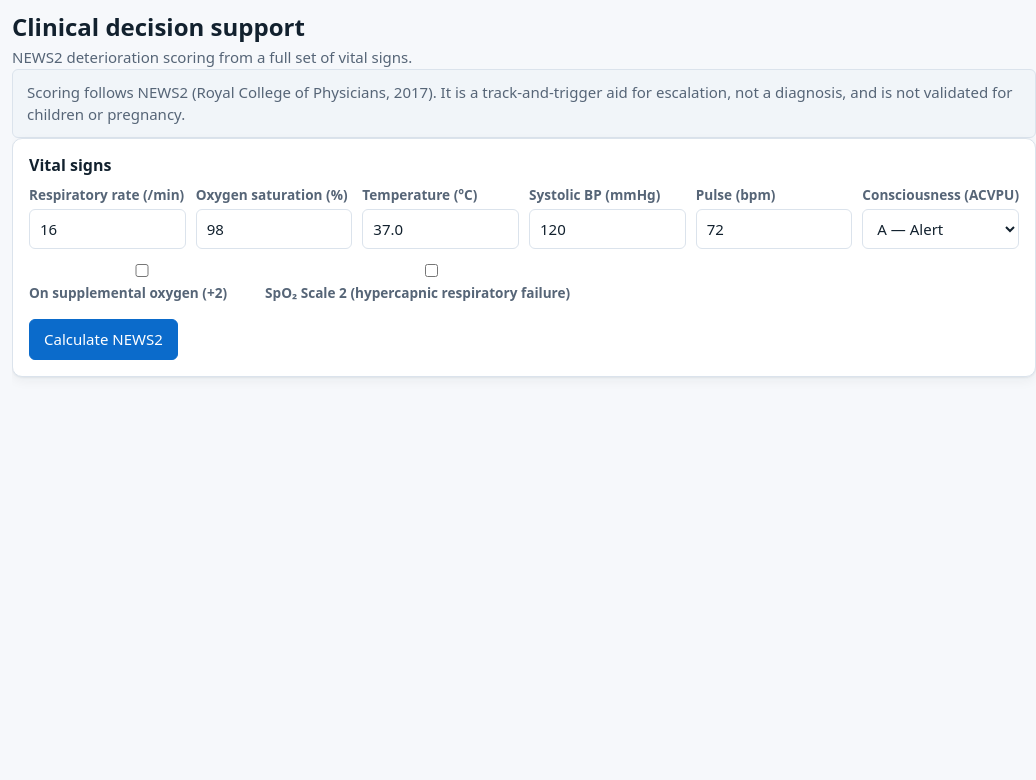
Test case: CdsPage › sends the full parameter set to /news2
Click the button "Calculate NEWS2" at (103, 339), box [29, 319, 178, 360]
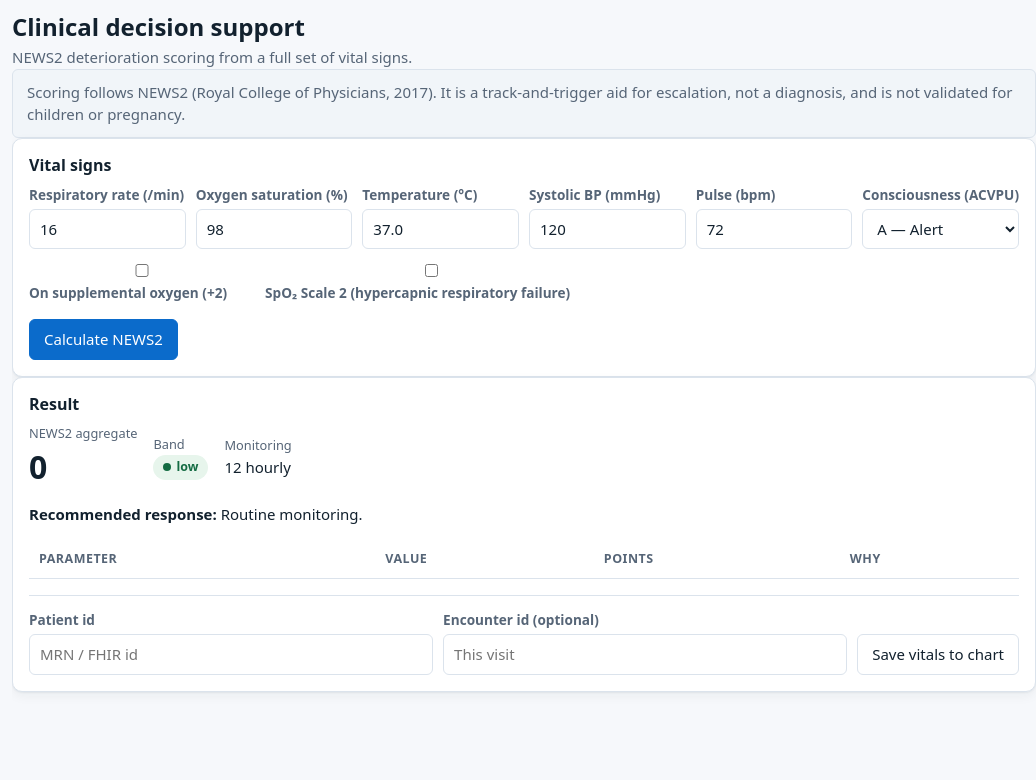
Expected: the text "Recommended response:" is shown, [29, 504, 217, 524]
